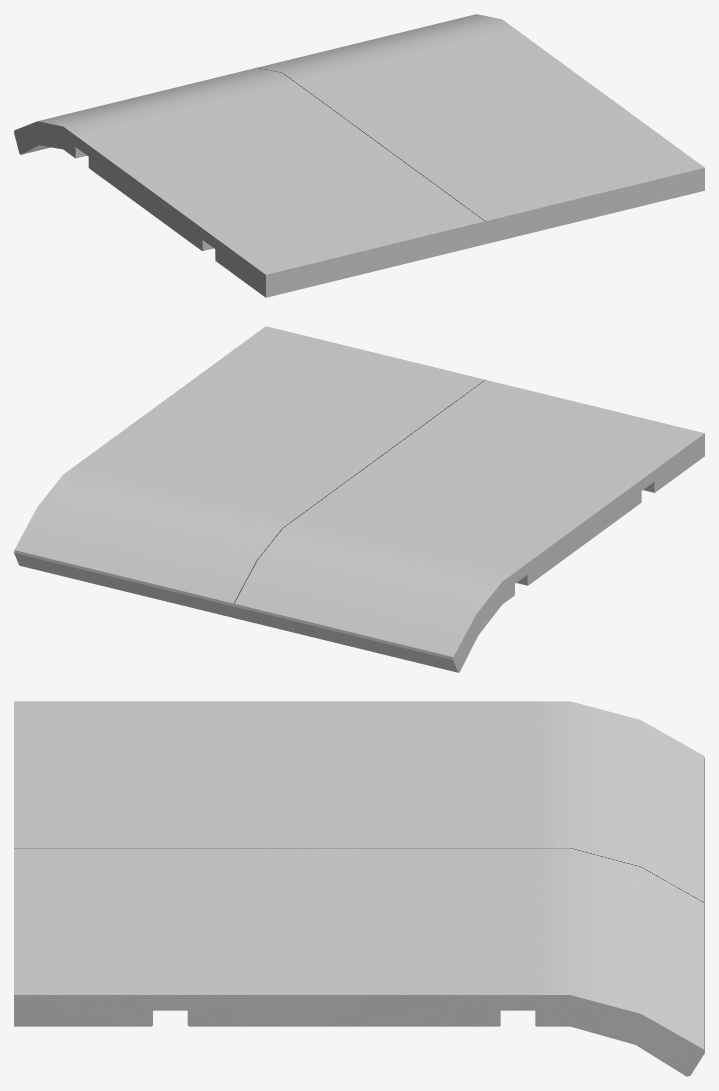
File: CeilingEnd.fbx
3 renders of one model, top to bottom at view 1: azimuth 30°, elevation 25°; view 2: azimuth 150°, elevation 25°; view 3: azimuth 270°, elevation 25°, orthographic. The views are drawn at different scales.
Parts seen in each view (by area): view 1: CeilingEnd; view 2: CeilingEnd; view 3: CeilingEnd.
Boxes of the visible parts, box(x1,y1,x2,y2) form: CeilingEnd: box(14, 14, 704, 297); CeilingEnd: box(14, 326, 704, 672); CeilingEnd: box(14, 701, 704, 1076).
Bounding box in the file's own units: 4 × 0.5185 × 3.98.
